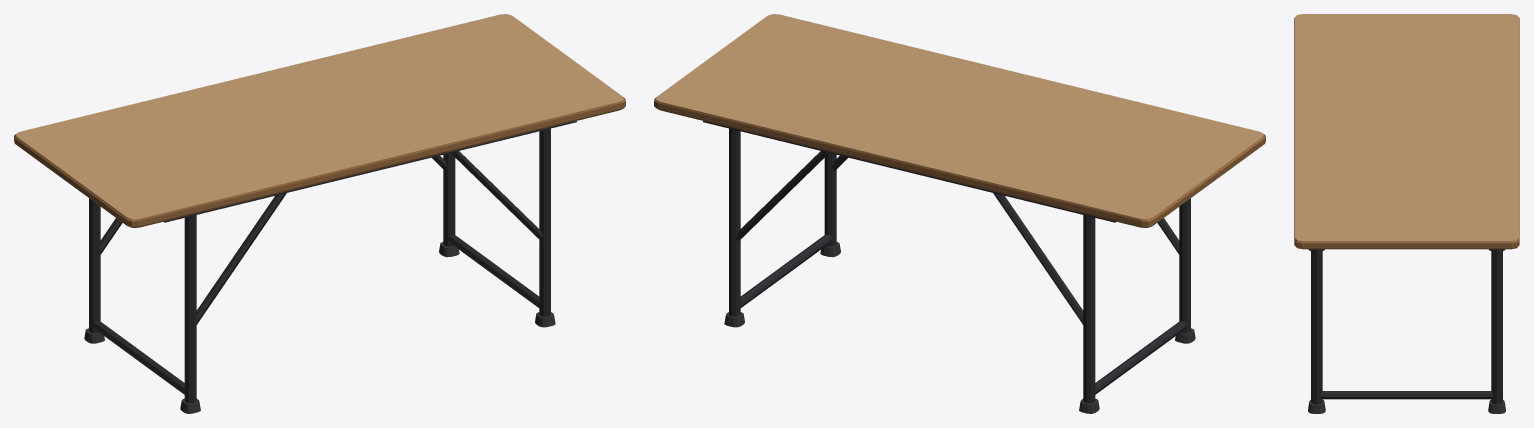
Rendered from FN_Table_Folding.glb.
The picture shows the model from 3 angles, left to right: view 1: azimuth 30°, elevation 25°; view 2: azimuth 150°, elevation 25°; view 3: azimuth 270°, elevation 25°; orthographic projection. The views are drawn at different scales.
Parts seen in each view (by area): view 1: FN_Table_Folding; view 2: FN_Table_Folding; view 3: FN_Table_Folding.
Part boxes in pixels (box(x1,y1,x2,y2)): FN_Table_Folding: box(14, 14, 625, 413); FN_Table_Folding: box(654, 14, 1265, 413); FN_Table_Folding: box(1294, 14, 1519, 413).
Size of the model in its own units: 1.8 by 0.74 by 0.75.
1 material, 1 textured.
